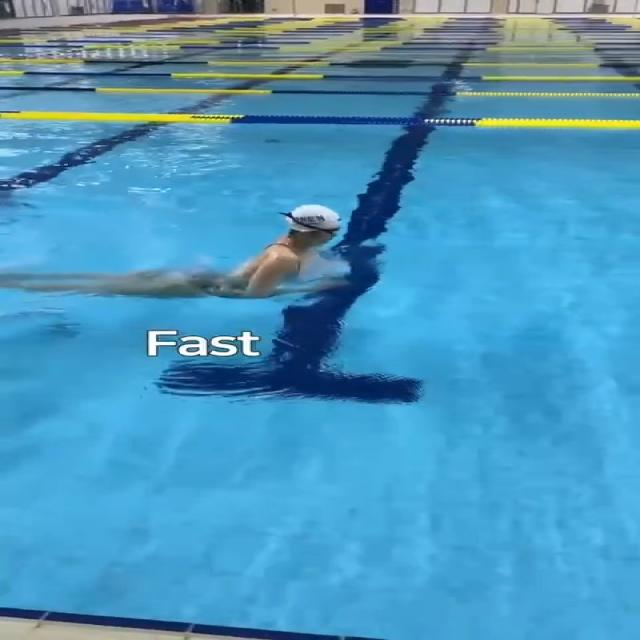Swimming: (0, 191, 371, 320)
